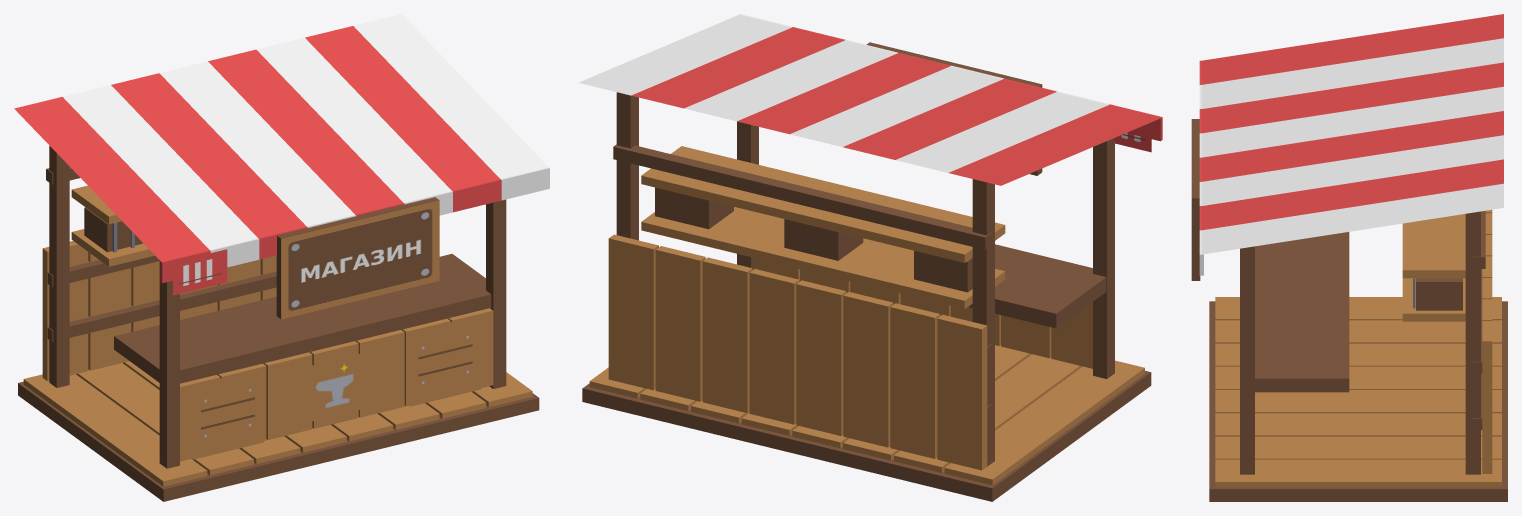
The model's file is shop.glb.
3 renders of one model, left to right at view 1: azimuth 30°, elevation 25°; view 2: azimuth 150°, elevation 25°; view 3: azimuth 270°, elevation 25°, orthographic. The views are drawn at different scales.
Visible parts, largest first — view 1: Shop_Geometry; view 2: Shop_Geometry; view 3: Shop_Geometry.
Boxes of the visible parts, bbox=[...] form: Shop_Geometry: bbox=[14, 14, 549, 501]; Shop_Geometry: bbox=[578, 14, 1162, 501]; Shop_Geometry: bbox=[1191, 14, 1507, 501].
Size of the model in its own units: 3.92 by 2.8 by 2.71.
Materials: 10 (5 with a texture image).
